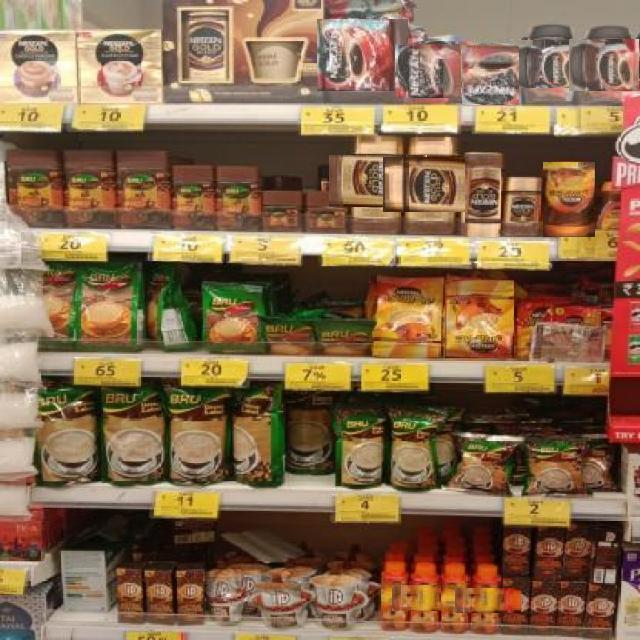Coffee: (318, 19, 408, 91), (373, 278, 444, 357), (444, 279, 514, 358), (384, 156, 482, 212), (329, 156, 427, 207), (543, 161, 595, 237), (515, 40, 594, 88), (569, 39, 640, 91), (396, 43, 461, 98), (462, 44, 519, 105), (464, 153, 501, 237), (505, 177, 540, 236), (442, 565, 469, 635), (391, 586, 458, 611), (454, 588, 521, 613), (382, 563, 406, 632)
